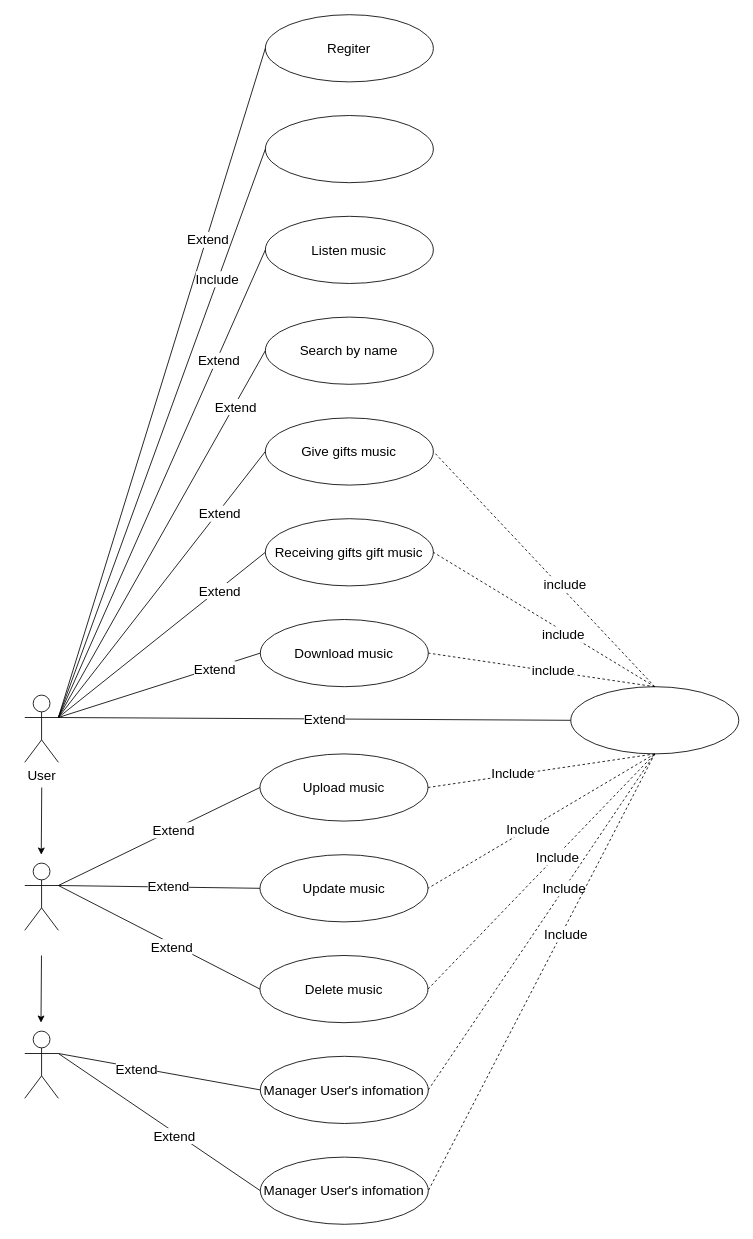
The diagram is 753 pixels wide and 1239 high, and some of its shapes have lost their labels. The centre of each missing label's shape, as x and y in pixels:
Admin: [41,1064]
Log in: [654,720]
Producer: [41,896]
Show list of trending misic: [349,149]
